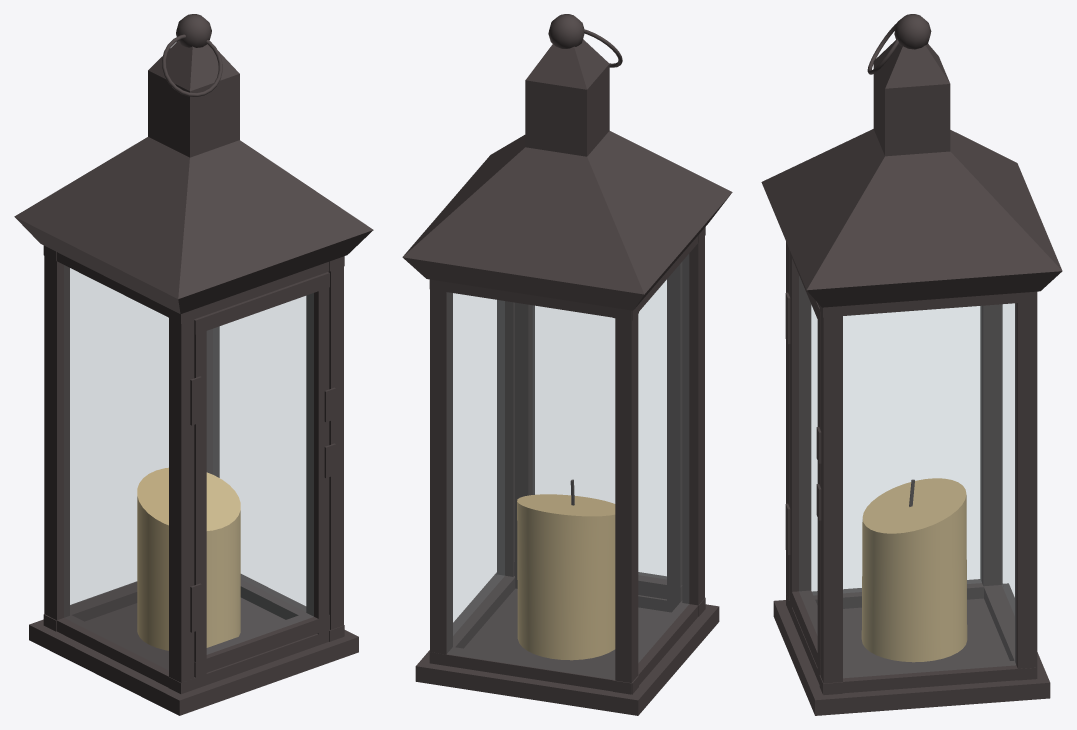
The model's file is Candle.glb.
The picture shows the model from 3 angles, left to right: view 1: azimuth 30°, elevation 25°; view 2: azimuth 150°, elevation 25°; view 3: azimuth 270°, elevation 25°; orthographic projection.
Visible parts, largest first — view 1: Box029, Plane009, Plane006, Cylinder002, Box045, Box036, Box031, Box043, Box037, Box040, Box044, Box030 (+9 smaller); view 2: Plane008, Box029, Plane009, Cylinder002, Box045, Box036, Box032, Box031, Box040, Box037, Box043, Box033 (+7 smaller); view 3: Plane007, Box029, Cylinder002, Box045, Box032, Box037, Box040, Box036, Plane006, Box035, Box039, Box033 (+6 smaller).
Part boxes in pixels (x1,y1,x2,y2): Box029: [14, 41, 373, 314]; Plane009: [64, 266, 168, 669]; Plane006: [207, 293, 313, 653]; Cylinder002: [137, 467, 240, 650]; Box045: [29, 597, 358, 715]; Box036: [44, 252, 69, 630]; Box031: [169, 318, 194, 682]; Box043: [306, 287, 329, 641]; Box037: [328, 266, 343, 629]; Box040: [194, 319, 206, 686]; Box044: [194, 613, 329, 676]; Box030: [57, 614, 195, 693]; Plane008: [447, 293, 614, 679]; Box029: [402, 39, 732, 310]; Plane009: [639, 255, 688, 660]; Cylinder002: [517, 494, 615, 660]; Box045: [415, 572, 719, 715]; Box036: [615, 314, 638, 682]; Box032: [430, 289, 452, 654]; Box031: [682, 236, 704, 605]; Box040: [667, 262, 682, 608]; Box037: [497, 300, 514, 576]; Box043: [515, 302, 534, 585]; Box033: [429, 647, 638, 694]; Plane007: [843, 304, 1015, 677]; Box029: [761, 40, 1062, 307]; Cylinder002: [861, 478, 967, 662]; Box045: [773, 583, 1050, 715]; Box032: [1015, 302, 1037, 668]; Box037: [820, 312, 842, 683]; Box040: [789, 249, 811, 615]; Box036: [980, 304, 1002, 586]; Plane006: [799, 277, 816, 632]; Box035: [819, 660, 1017, 694]; Box039: [819, 293, 1017, 317]; Box033: [984, 585, 1037, 680].
Size of the model in its own units: 567669 by 1335226 by 567669.
